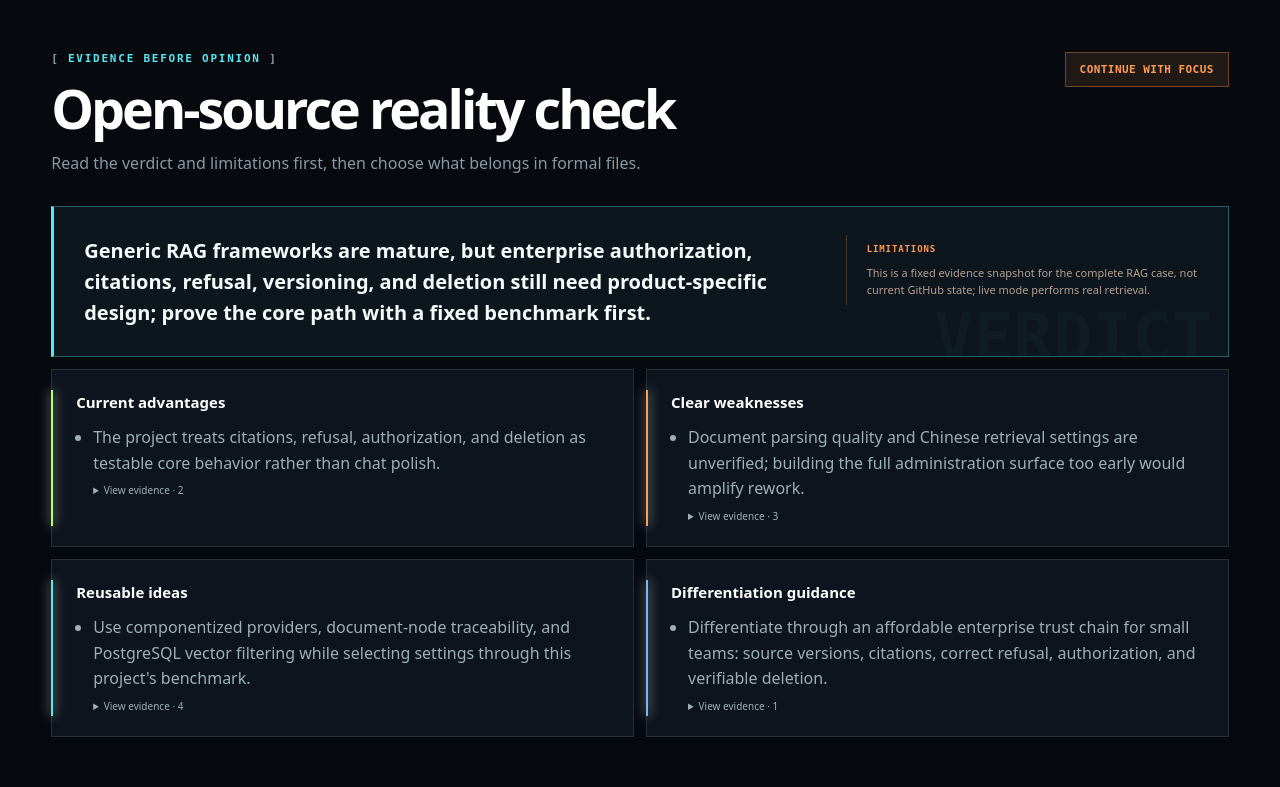
Test: ResearchPage evidence review › shows all four assessment groups and exposes evidence for important judgments
Expected: the heading "Current advantages" is shown, [76, 392, 226, 412]
Expected: the heading "Clear weaknesses" is shown, [671, 392, 804, 412]
Click the heading "View evidence · 2". click: (144, 490)
box: [104, 484, 183, 498]
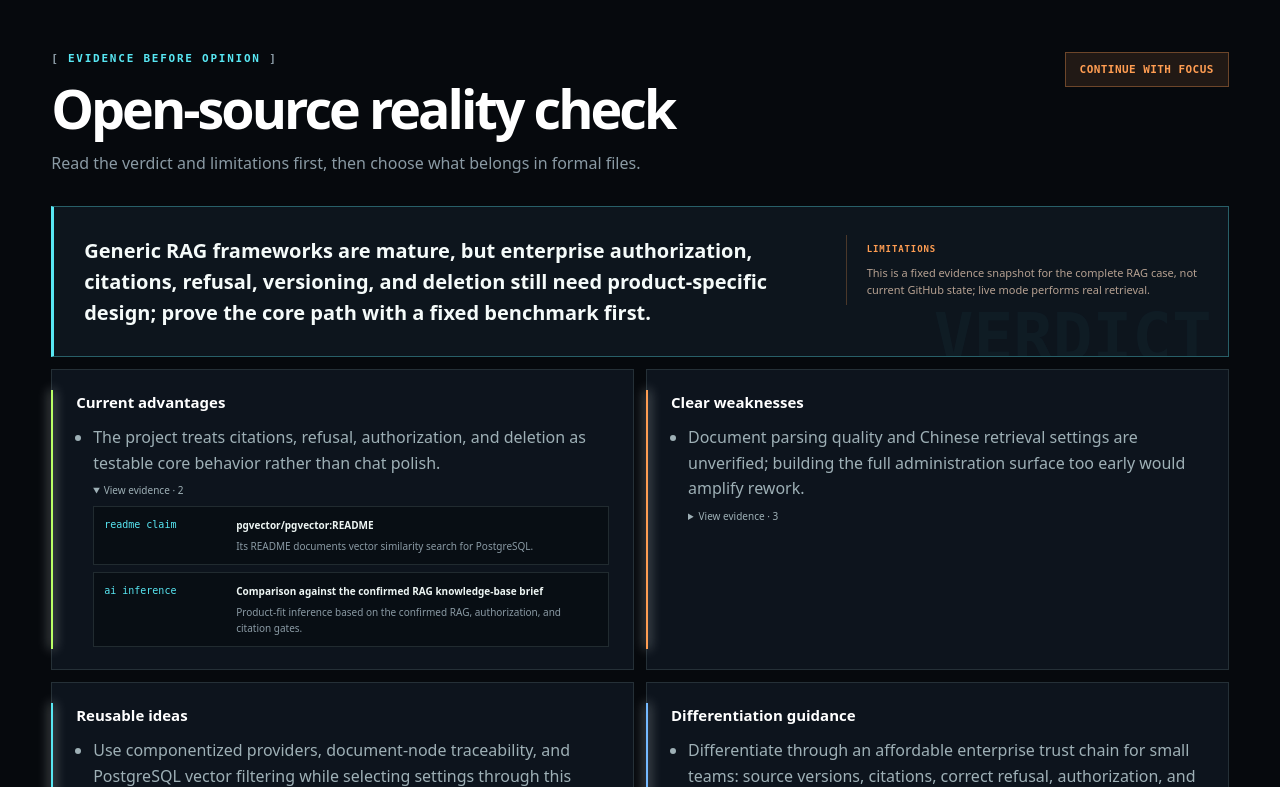
Expected: the text "pgvector/pgvector:README" is shown, [236, 518, 374, 532]
